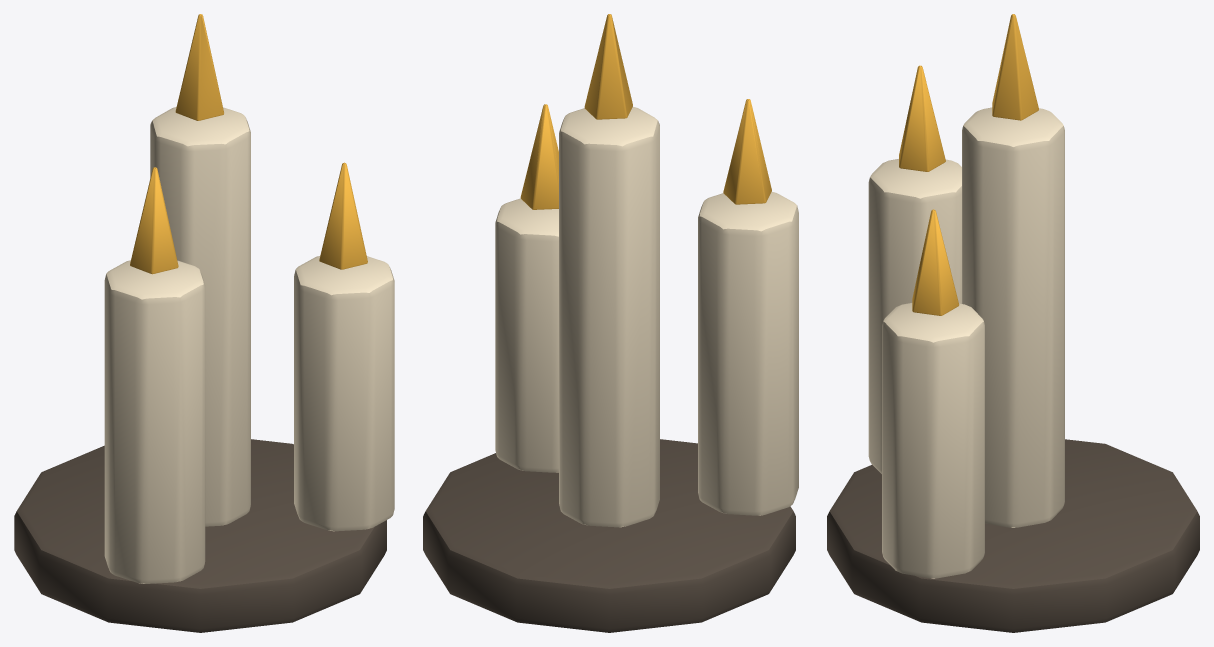
The model's file is RailFire.fbx.
The picture shows the model from 3 angles, left to right: view 1: azimuth 30°, elevation 25°; view 2: azimuth 150°, elevation 25°; view 3: azimuth 270°, elevation 25°; orthographic projection.
Parts seen in each view (by area): view 1: RailFire; view 2: RailFire; view 3: RailFire.
Boxes of the visible parts, <box> form: RailFire: <box>14,14,394,632</box>; RailFire: <box>423,14,798,632</box>; RailFire: <box>827,14,1199,632</box>.
Size of the model in its own units: 140 by 225 by 140.
